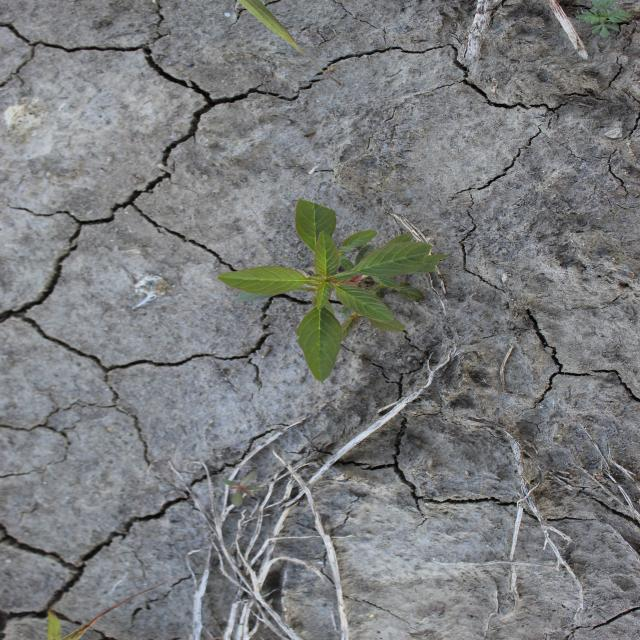Ragweed: (574, 1, 633, 40)
Waterhemp: (213, 197, 448, 384)
